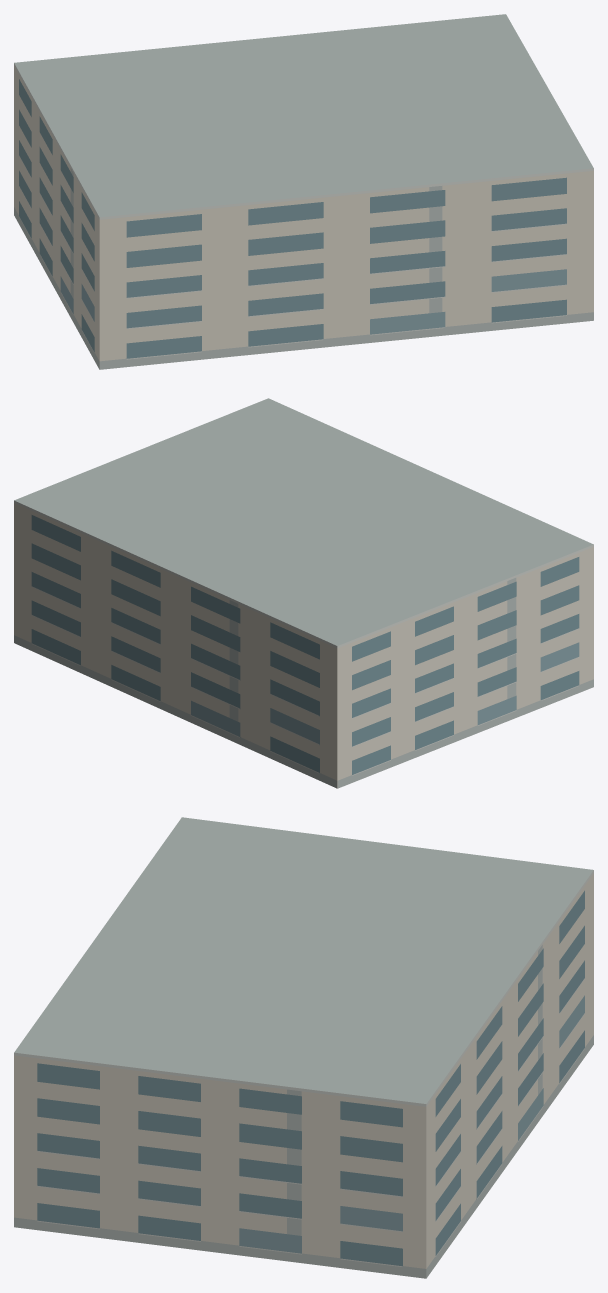
Rendered from survey-upis-32734471.glb.
The picture shows the model from 3 angles, top to bottom: view 1: azimuth 30°, elevation 25°; view 2: azimuth 150°, elevation 25°; view 3: azimuth 270°, elevation 25°; orthographic projection. The views are drawn at different scales.
Visible parts, largest first — view 1: survey-upis-32734471.tmp; view 2: survey-upis-32734471.tmp; view 3: survey-upis-32734471.tmp.
Boxes of the visible parts, x1,y1,x2,y2 form: survey-upis-32734471.tmp: (14,14,593,369); survey-upis-32734471.tmp: (14,398,593,788); survey-upis-32734471.tmp: (14,817,593,1278).
Size of the model in its own units: 53.73 by 15.25 by 45.9.
